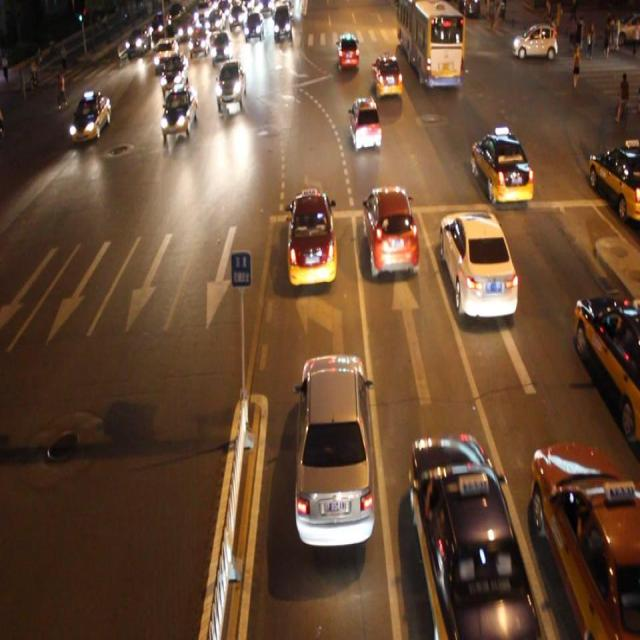car: (407, 432, 537, 640), (530, 435, 640, 640), (294, 351, 376, 546), (571, 288, 640, 441), (439, 210, 517, 321), (362, 186, 418, 277), (286, 188, 336, 287), (470, 128, 532, 206), (587, 136, 640, 222), (69, 94, 111, 144), (349, 97, 382, 150), (162, 88, 196, 135), (215, 62, 246, 109), (372, 54, 402, 100), (336, 32, 359, 70), (161, 56, 186, 88), (154, 38, 178, 67)
van: (393, 1, 464, 91)
